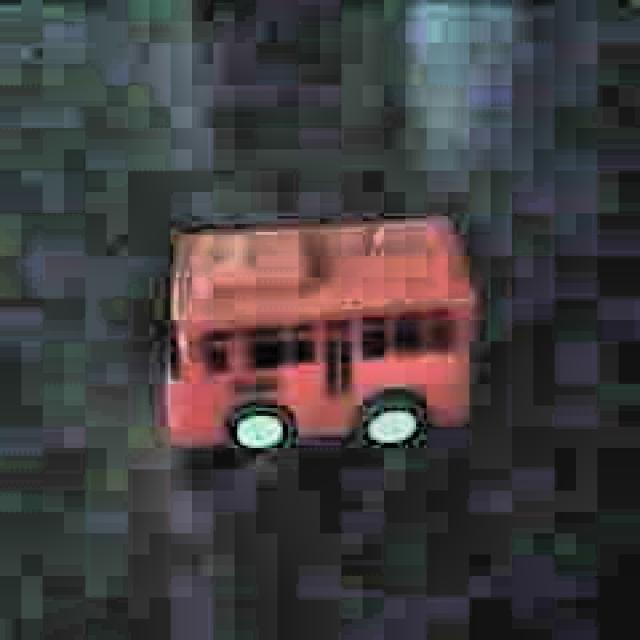bus: (156, 208, 482, 464)
